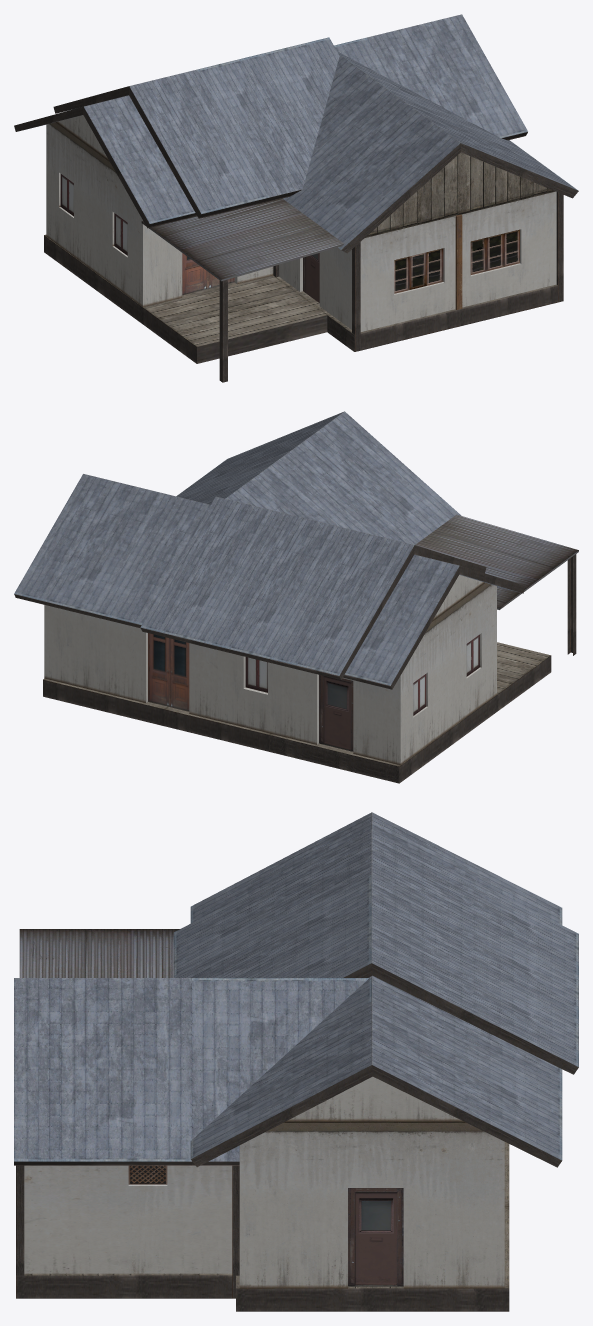
Rendered from Village_House.glb.
3 renders of one model, top to bottom at view 1: azimuth 30°, elevation 25°; view 2: azimuth 150°, elevation 25°; view 3: azimuth 270°, elevation 25°, orthographic. The views are drawn at different scales.
Parts seen in each view (by area): view 1: Object013_Material #15_0; view 2: Object013_Material #15_0; view 3: Object013_Material #15_0.
Part boxes in pixels (x1,y1,x2,y2): Object013_Material #15_0: (14, 14, 578, 382); Object013_Material #15_0: (14, 411, 578, 783); Object013_Material #15_0: (14, 812, 578, 1311).
Bounding box in the file's own units: 12.74 × 6.26 × 12.04.
Materials: 1 (1 with a texture image).
